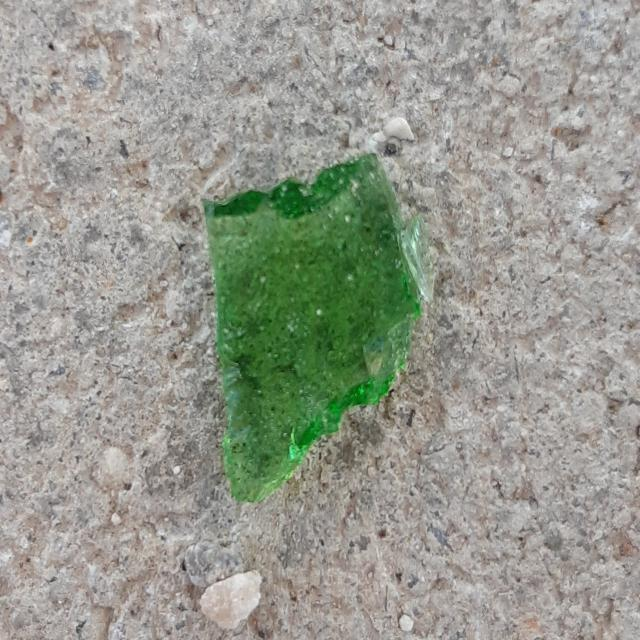Dry: (202, 147, 432, 495)
